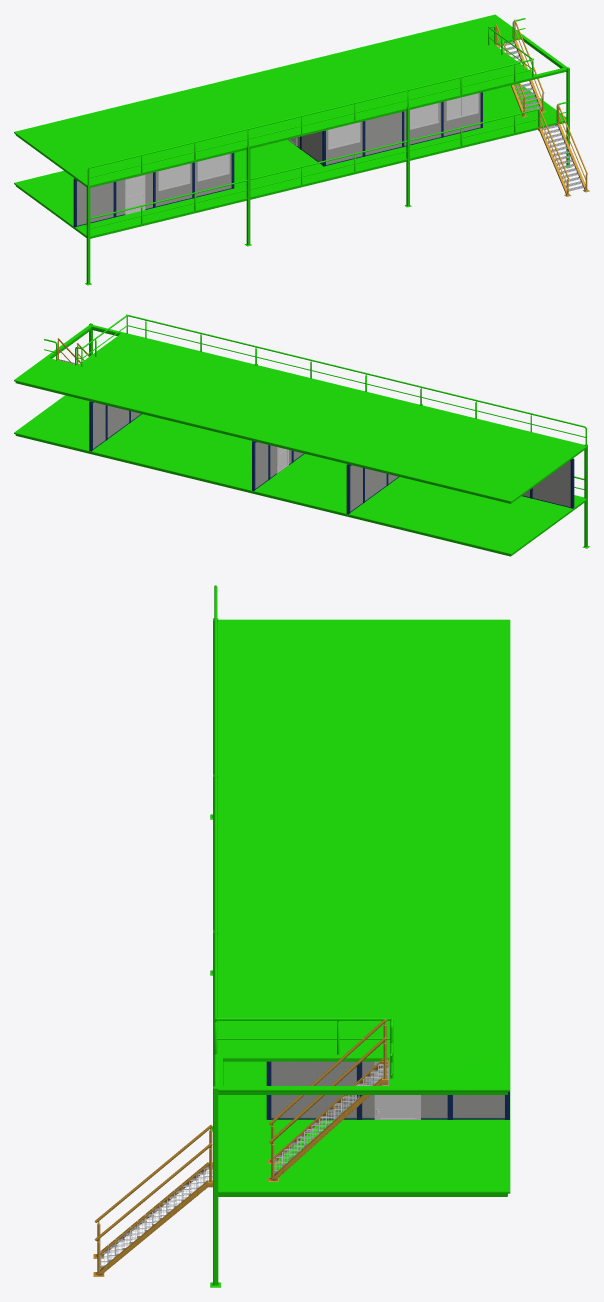
File: Mezzanine.fbx
3 renders of one model, top to bottom at view 1: azimuth 30°, elevation 25°; view 2: azimuth 150°, elevation 25°; view 3: azimuth 270°, elevation 25°, orthographic. The views are drawn at different scales.
Visible parts, largest first — view 1: MagazineMezzainePlatform_001, MagazineMezzainePlatform, MagazineMezzaineBarriers_001, MagazineMezzaineBarriers, MagazineStairs, MagazineMezzaine, Wall, Wall_007, MagazineStairs.001, Wall_013, Wall_003, Wall_009 (+10 smaller); view 2: MagazineMezzainePlatform_001, MagazineMezzainePlatform, MagazineMezzaineBarriers_001, Wall, Wall_006, Wall_012.001, Wall_012, Wall_011.001, Wall_005, MagazineMezzaine, Wall_011; view 3: MagazineMezzainePlatform_001, MagazineMezzainePlatform, MagazineStairs, MagazineStairs.001, Wall_010.001, MagazineMezzaine, MagazineMezzaineBarriers_001, Wall_012.001, Door.002, Wall_011.001, MagazineMezzaineBarriers_001.001.
Boxes of the visible parts, x1,y1,x2,y2 form: MagazineMezzainePlatform_001: (14, 14, 567, 187); MagazineMezzainePlatform: (14, 83, 566, 238); MagazineMezzaineBarriers_001: (87, 58, 533, 185); MagazineMezzaineBarriers: (90, 101, 567, 228); MagazineStairs: (538, 104, 589, 196); MagazineMezzaine: (85, 67, 571, 285); Wall: (73, 178, 116, 227); Wall_007: (365, 111, 404, 156); MagazineStairs.001: (495, 19, 545, 117); Wall_013: (322, 121, 365, 166); Wall_003: (195, 153, 234, 197); Wall_009: (443, 92, 482, 136); MagazineMezzainePlatform_001: (14, 325, 586, 503); MagazineMezzainePlatform: (14, 395, 586, 556); MagazineMezzaineBarriers_001: (126, 314, 586, 444); Wall: (530, 458, 574, 508); Wall_006: (346, 464, 363, 514); Wall_012.001: (89, 401, 105, 451); Wall_012: (252, 441, 268, 490); Wall_011.001: (105, 405, 129, 440); Wall_005: (363, 468, 386, 503); MagazineMezzaine: (89, 323, 589, 548); Wall_011: (268, 445, 291, 479); MagazineMezzainePlatform_001: (215, 619, 510, 1094); MagazineMezzainePlatform: (218, 1061, 510, 1196); MagazineStairs: (93, 1124, 212, 1276); MagazineStairs.001: (268, 1018, 388, 1181); Wall_010.001: (271, 1061, 361, 1119); MagazineMezzaine: (210, 618, 220, 1287); MagazineMezzaineBarriers_001: (214, 585, 217, 1054); Wall_012.001: (453, 1092, 509, 1119); Door.002: (374, 1061, 420, 1119); Wall_011.001: (362, 1061, 452, 1119); MagazineMezzaineBarriers_001.001: (215, 1017, 393, 1054).
Size of the model in its own units: 3029 by 711 by 1128.
